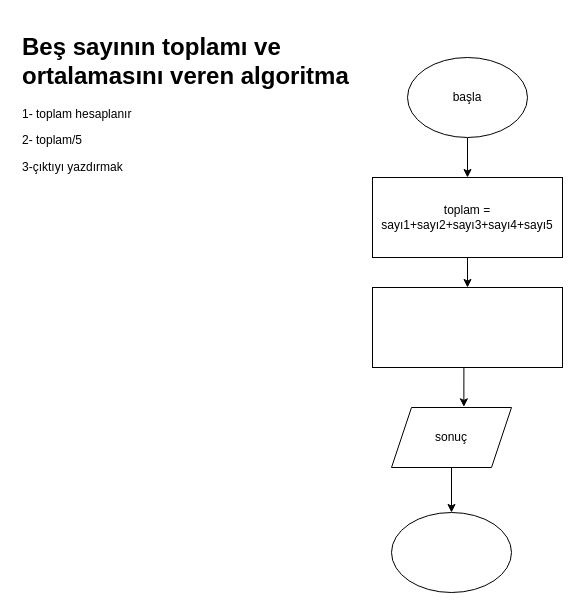
The diagram is 580 pixels wide and 610 high, and some of its shapes have lost their labels. The shapes that lost their labels are listed below. From the top down, each one's centre as x and y in pixels, then its label:
At (467,327): "sonuç =toplam/5".
At (451,552): "bitir".
